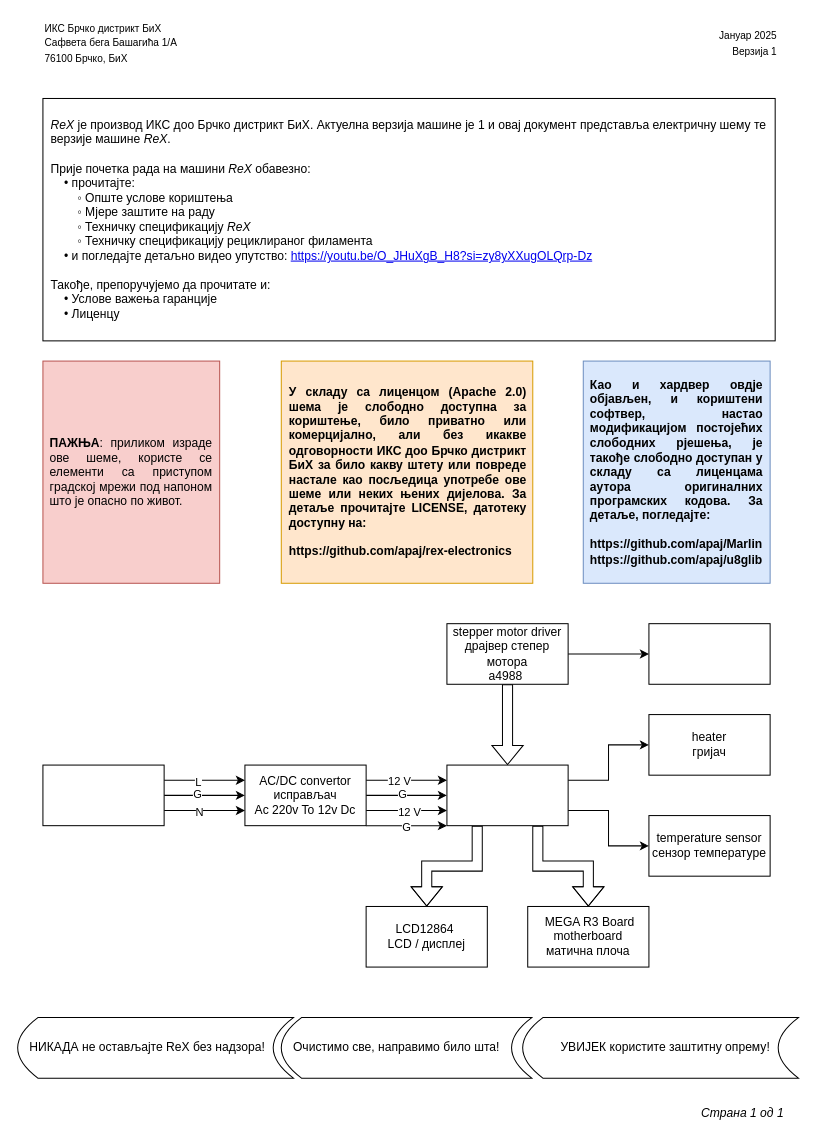
Some shapes in this 816 by 1145 pixel diagram are drawn without their labels. The centre of each missing label's shape, as x and y in pixels:
"Power outlet Утичница, градска мрежа 220 V, 50 Hz" goes at [103,795].
"RAMPS 1.4 shield/штит" goes at [507,795].
"stepper motor мотор NEMA 17" goes at [709,653].
